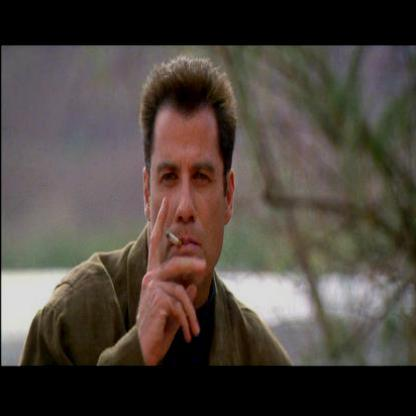cigarette: (164, 232, 183, 248)
person: (78, 54, 248, 376)
